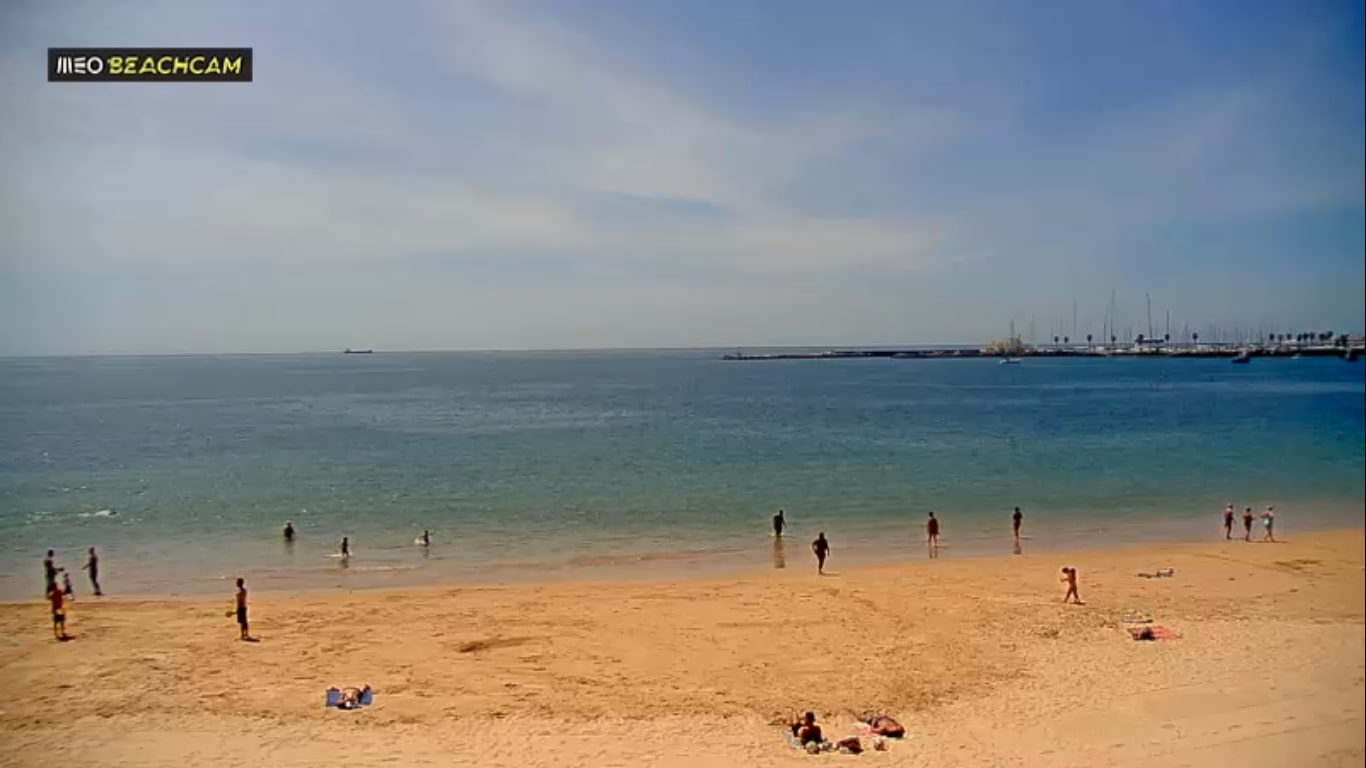person: (844, 700, 904, 735), (227, 575, 252, 645), (782, 707, 821, 743), (48, 584, 68, 638), (35, 542, 63, 580), (83, 545, 104, 594), (1059, 564, 1081, 606), (811, 529, 831, 575), (1009, 504, 1024, 553), (1260, 502, 1276, 544), (925, 512, 939, 555), (1222, 502, 1235, 540), (771, 509, 788, 537), (1242, 506, 1255, 542), (411, 529, 436, 547), (283, 520, 295, 544), (340, 536, 351, 560)
